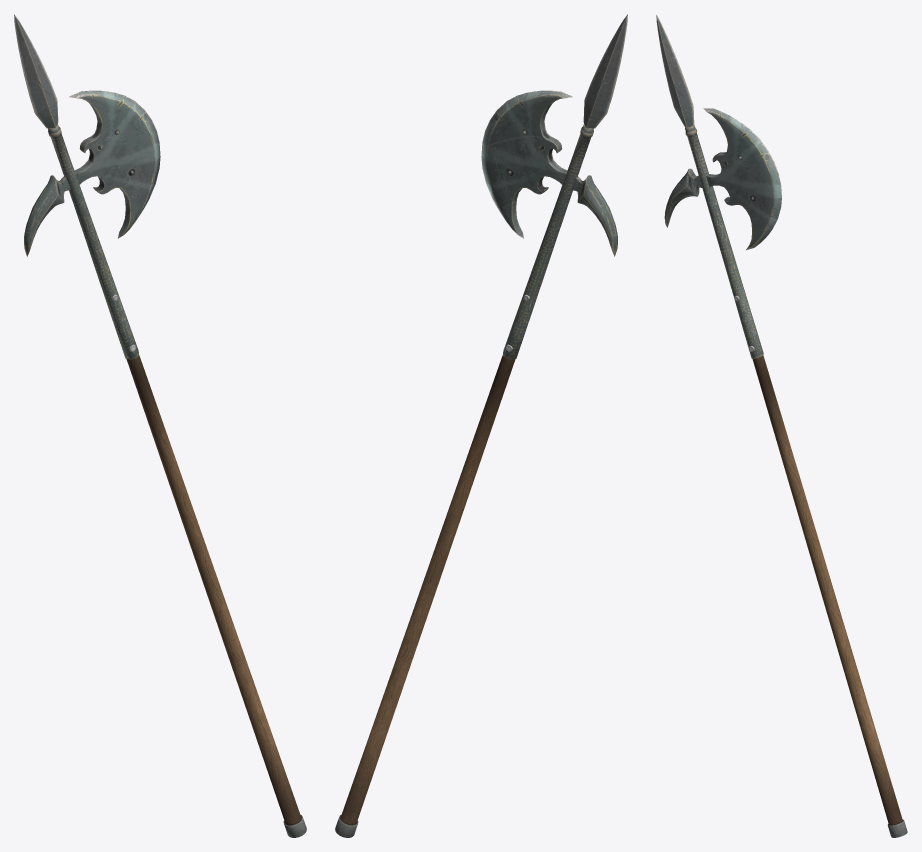
Rendered from hlbrd1.glb.
3 renders of one model, left to right at view 1: azimuth 30°, elevation 25°; view 2: azimuth 150°, elevation 25°; view 3: azimuth 330°, elevation 25°, orthographic. The views are drawn at different scales.
Parts seen in each view (by area): view 1: hlbrd1_common_full; view 2: hlbrd1_common_full; view 3: hlbrd1_common_full.
Boxes of the visible parts, box(x1,y1,x2,y2) form: hlbrd1_common_full: box(14, 14, 306, 837); hlbrd1_common_full: box(335, 14, 627, 837); hlbrd1_common_full: box(656, 14, 907, 837).
Bounding box in the file's own units: 24.09 × 70.31 × 1.45.
1 material, 1 textured.
